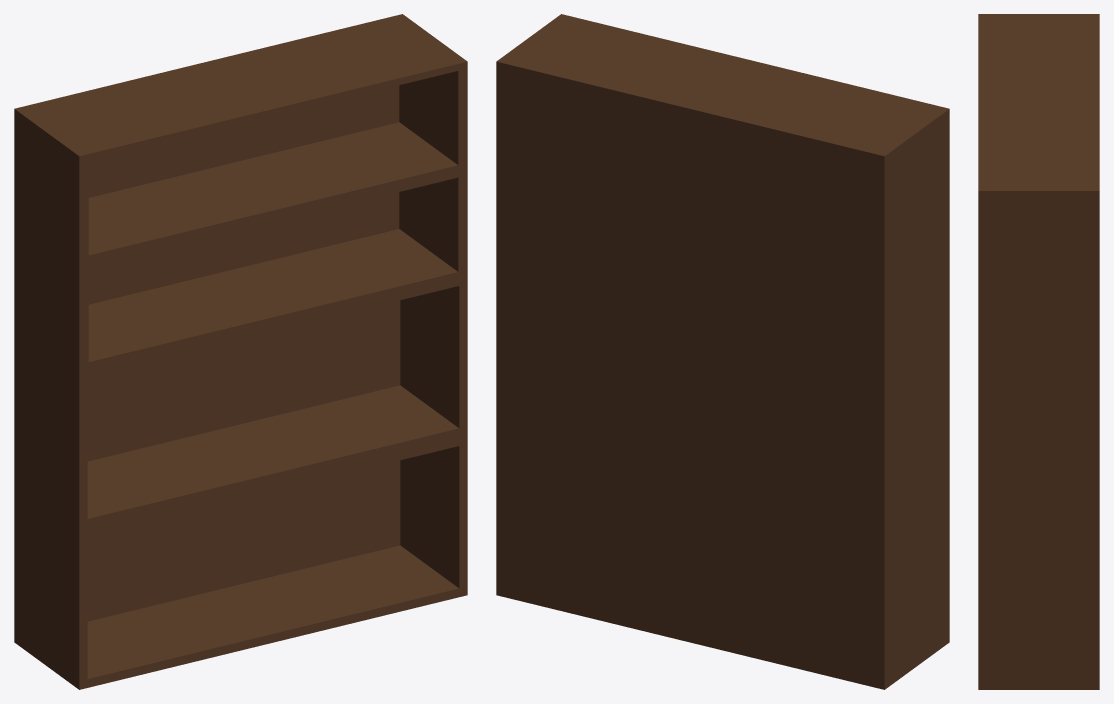
The model's file is BookshelfV1.fbx.
3 views of the same model, side by side, from view 1: azimuth 30°, elevation 25°; view 2: azimuth 150°, elevation 25°; view 3: azimuth 270°, elevation 25° (orthographic). The views are drawn at different scales.
Visible parts, largest first — view 1: BookshelfV1; view 2: BookshelfV1; view 3: BookshelfV1.
Boxes of the visible parts, box(x1,y1,x2,y2) form: BookshelfV1: box(14, 14, 467, 689); BookshelfV1: box(496, 14, 949, 689); BookshelfV1: box(978, 14, 1099, 689).
Size of the model in its own units: 152 by 200 by 44.17.
